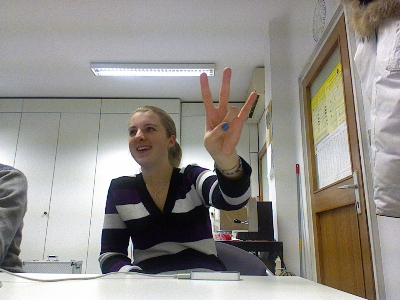观音: (199, 66, 257, 159)
